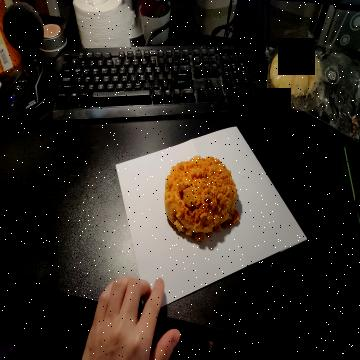soboru_bread: (167, 157, 242, 246)
